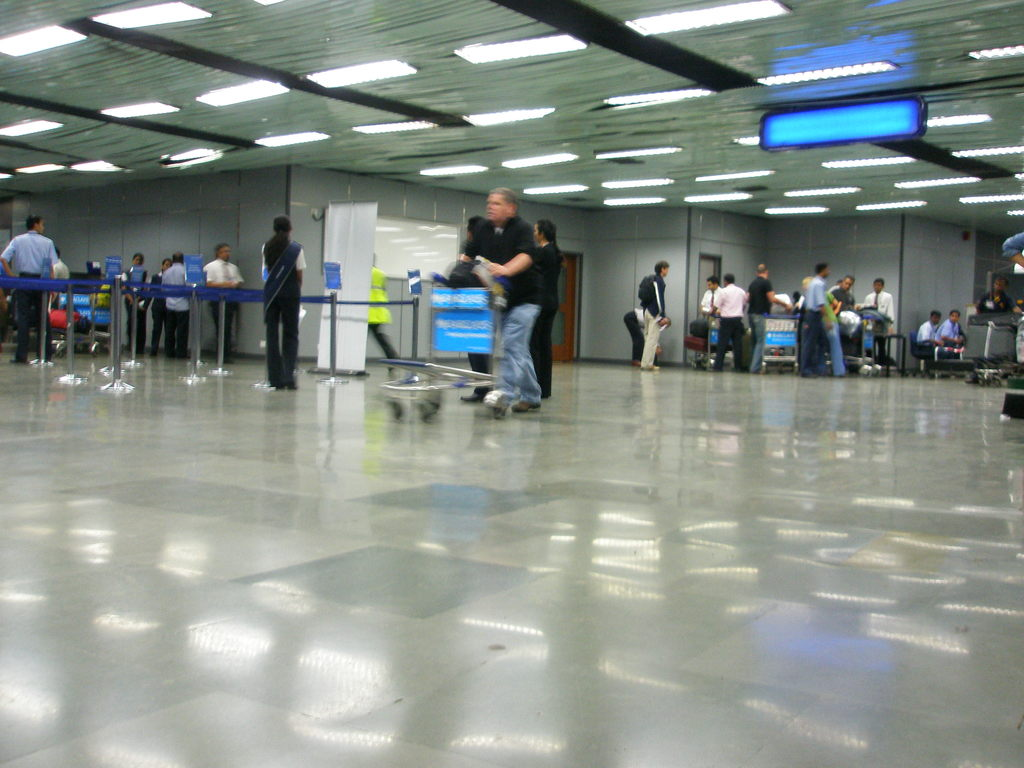Person: (699, 261, 896, 377), (456, 187, 545, 419), (0, 213, 60, 361), (121, 248, 195, 363), (258, 211, 305, 388), (458, 214, 493, 400), (535, 216, 567, 400), (204, 241, 244, 367), (634, 258, 673, 373), (620, 307, 671, 363), (971, 273, 1022, 315), (935, 309, 963, 347), (915, 308, 939, 342), (1000, 234, 1024, 267)
